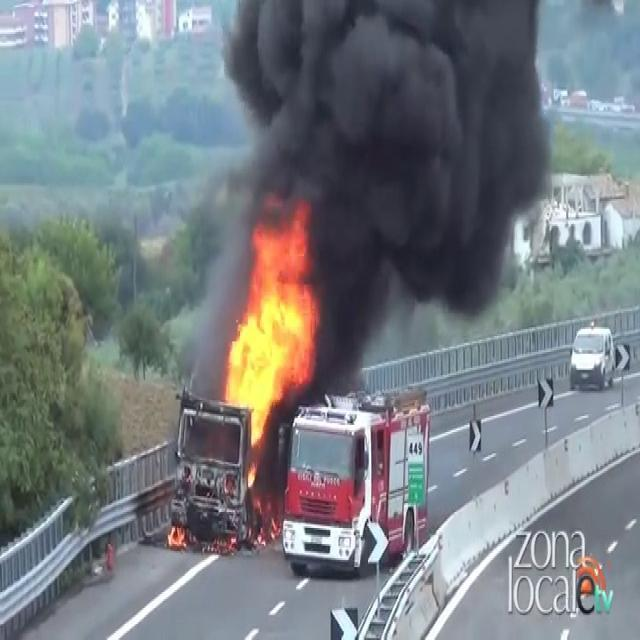Fire: (220, 213, 321, 450), (165, 516, 188, 550)
Smoke: (196, 0, 566, 329)
